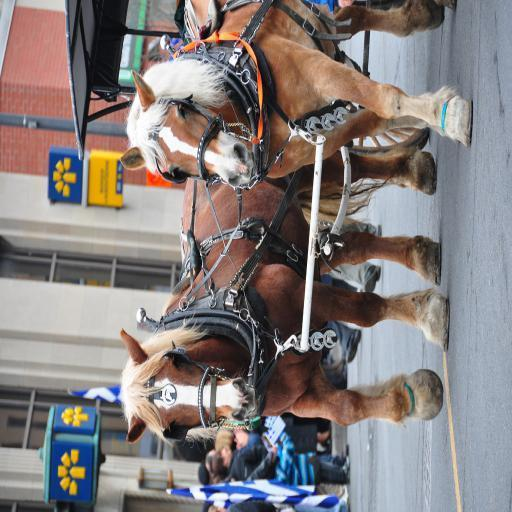horse: (118, 176, 450, 454), (118, 0, 473, 190)
